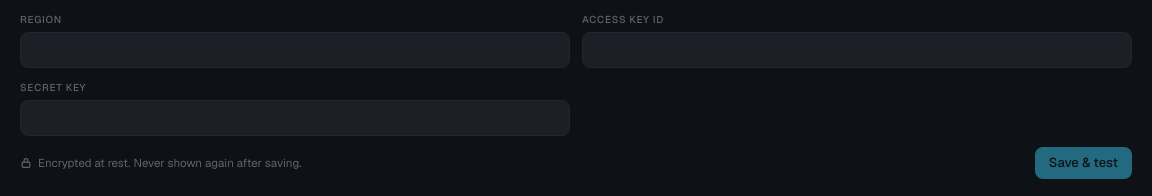
it: save is disabled while a required non-secret field is empty
This screenshot has width=1152, height=196.
expect the button "Save & test" is disabled: met, box [1035, 147, 1132, 179]
Type "us-east-1" into the field labelled "Region".
click(295, 50); type("us-east-1")  # box [20, 32, 570, 68]
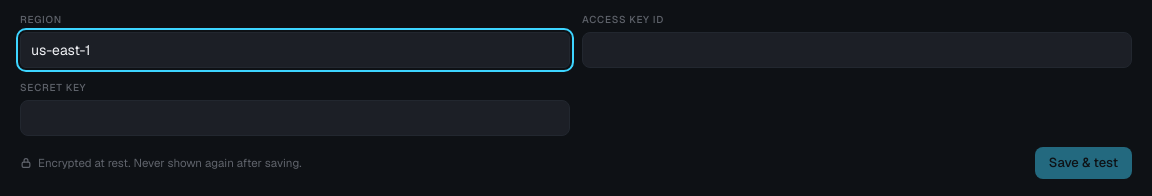
Type "AKIA123" into the field labelled "Access Key ID".
click(857, 50); type("AKIA123")  # box [582, 32, 1132, 68]
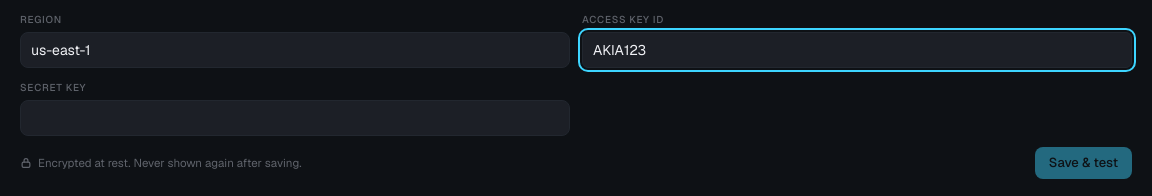
Type "shhh" into the password field labelled "Secret Key".
click(295, 118); type("shhh")  # box [20, 100, 570, 136]
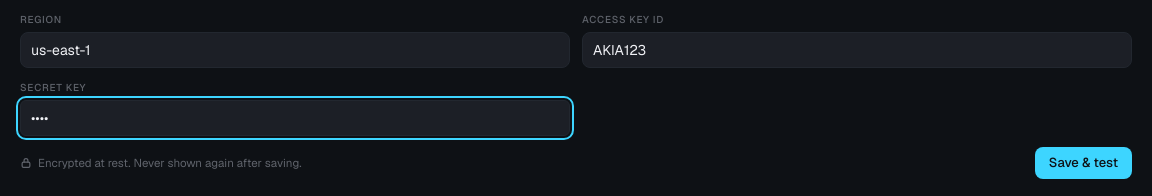
expect the button "Save & test" is enabled: met, box [1035, 147, 1132, 179]
